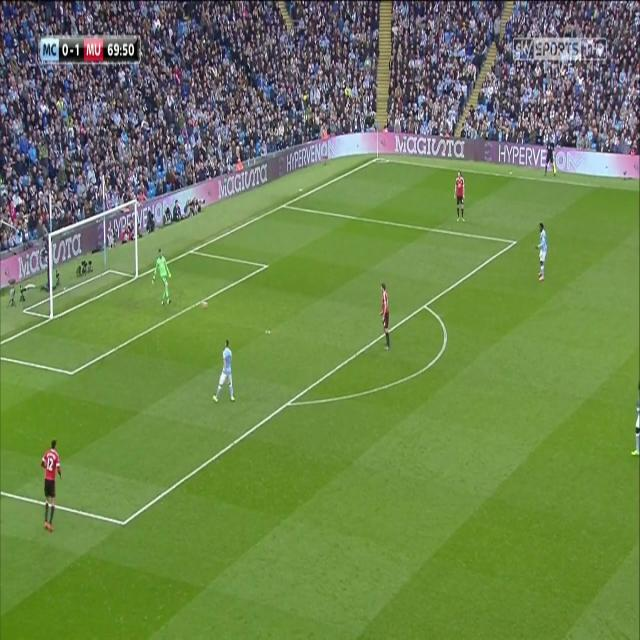Ball: (200, 297, 208, 312)
Goalkeeper: (151, 247, 173, 308)
Player: (40, 438, 63, 534), (212, 338, 237, 407), (452, 170, 468, 226), (534, 222, 548, 284), (380, 281, 392, 353)
Referee: (544, 136, 560, 179)
